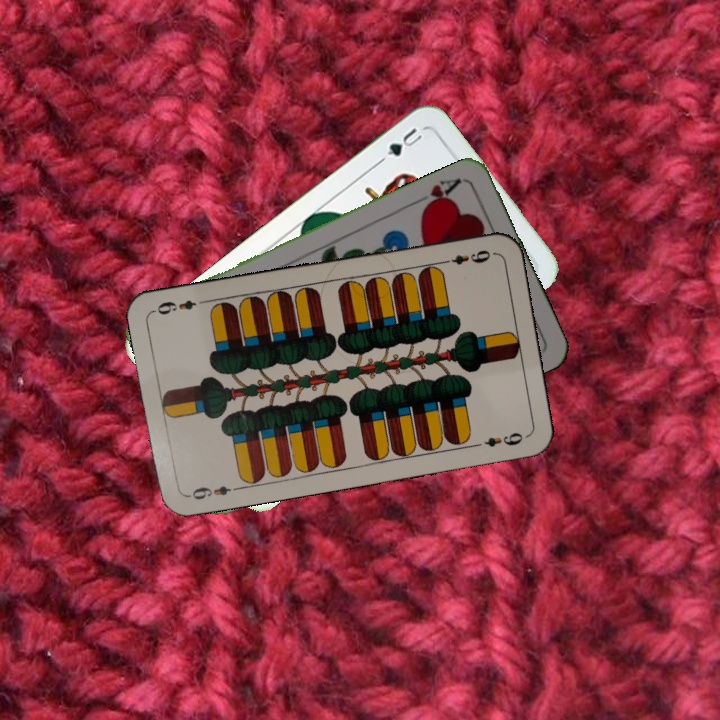E9: (183, 481, 242, 503), (437, 245, 493, 267)
GU: (383, 123, 425, 160)
HA: (411, 173, 464, 215)
